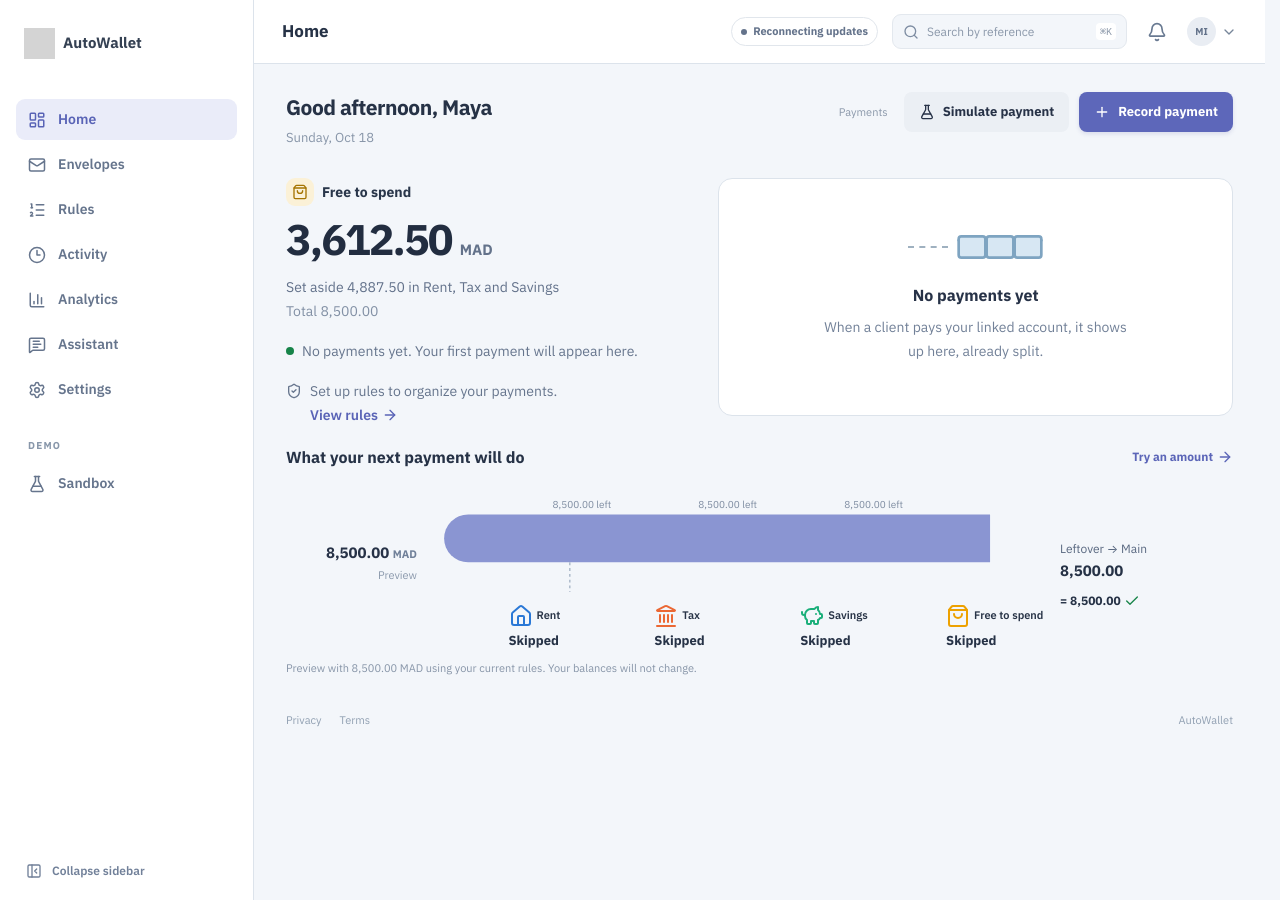
Scenario: DashboardPage › records a payment through the backend and refreshes the dashboard
The image size is (1280, 900).
Check: the heading "No payments yet" is shown, box 913,283 -> 1039,307
Click the button "Record payment" at (1156,112), box 1079,92 -> 1233,132
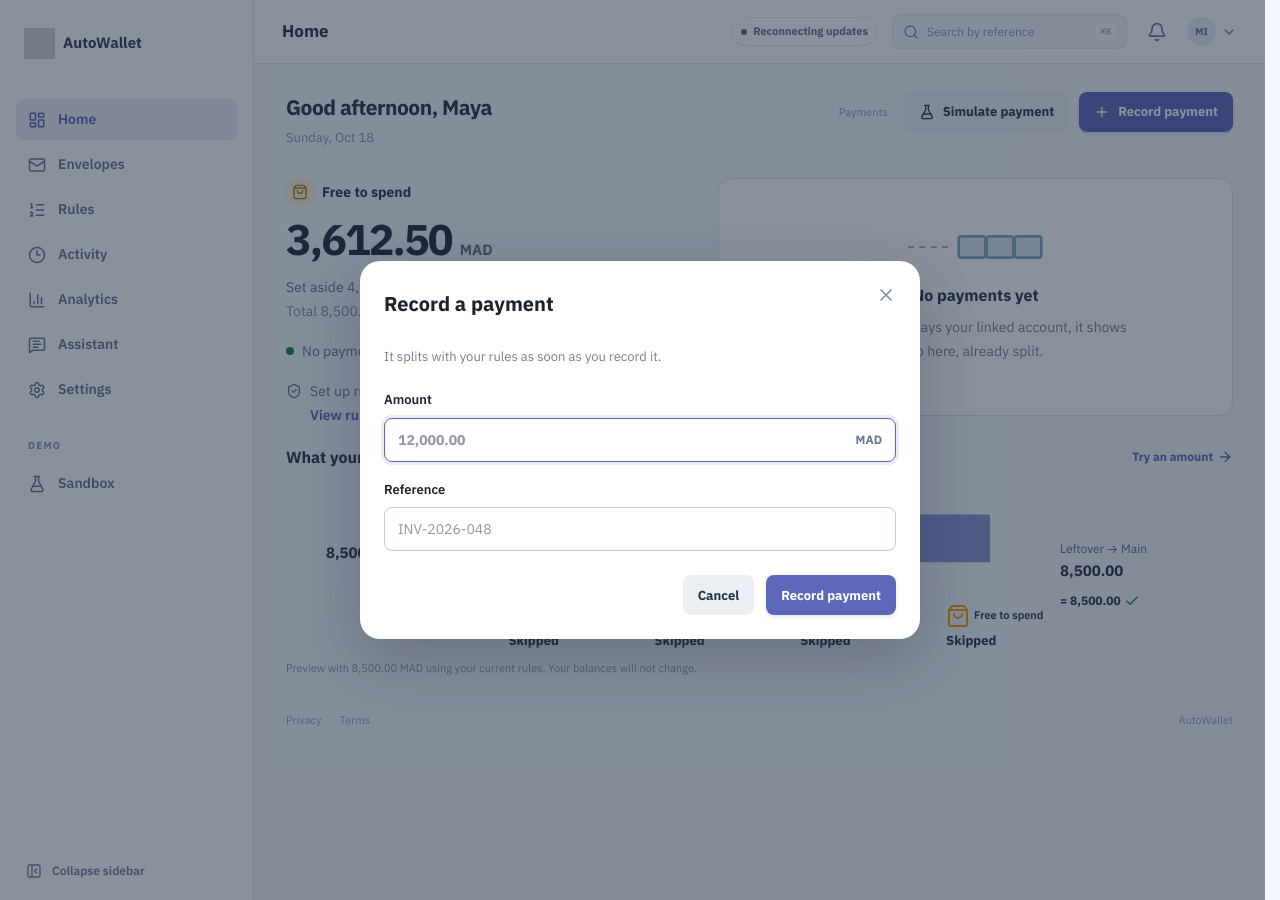
Type "INV-NEW" into the field labelled "Reference" at (640,529), box 384,507 -> 896,551
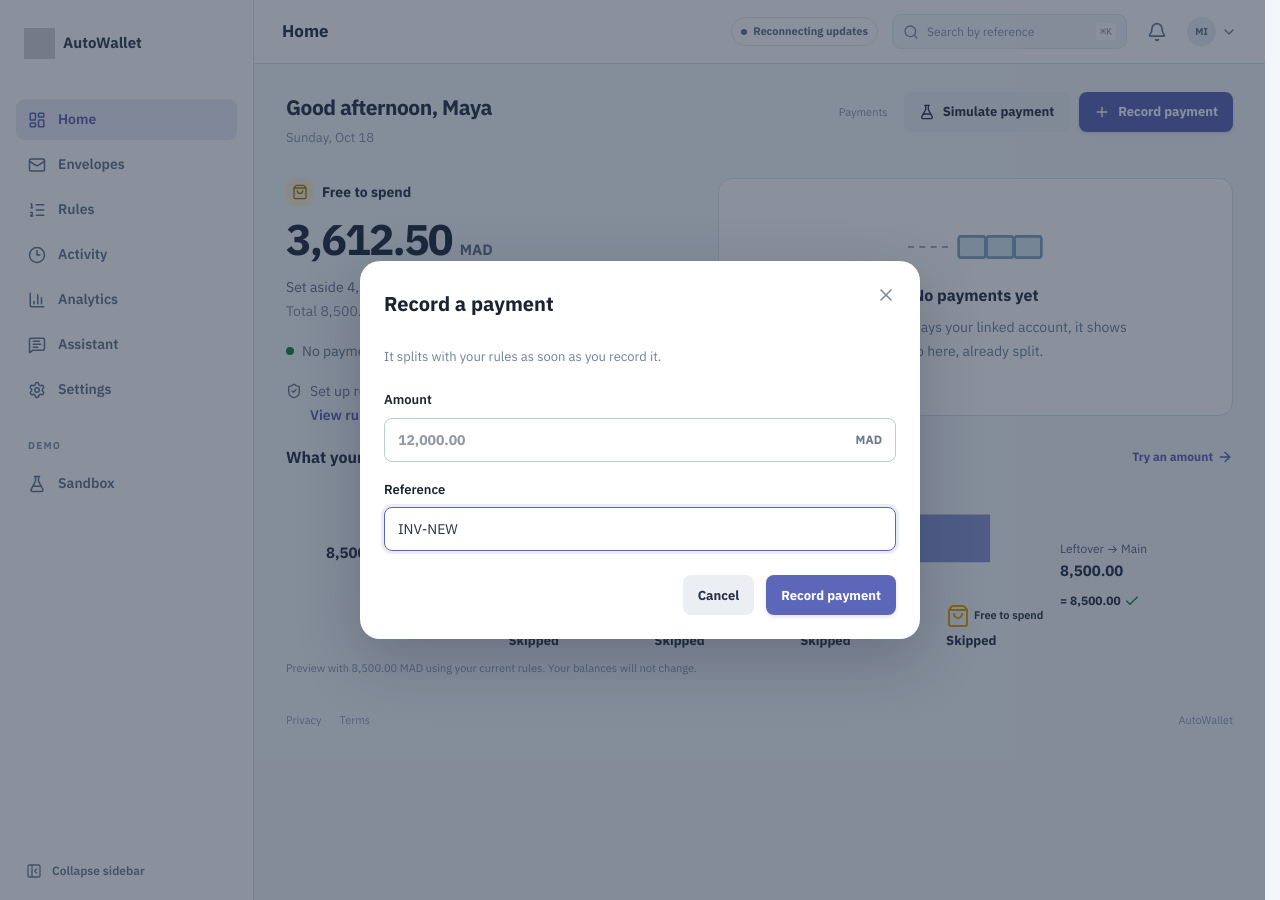
Type "2400" into the field named "Amount (MAD)" at (640,440), box 384,418 -> 896,462
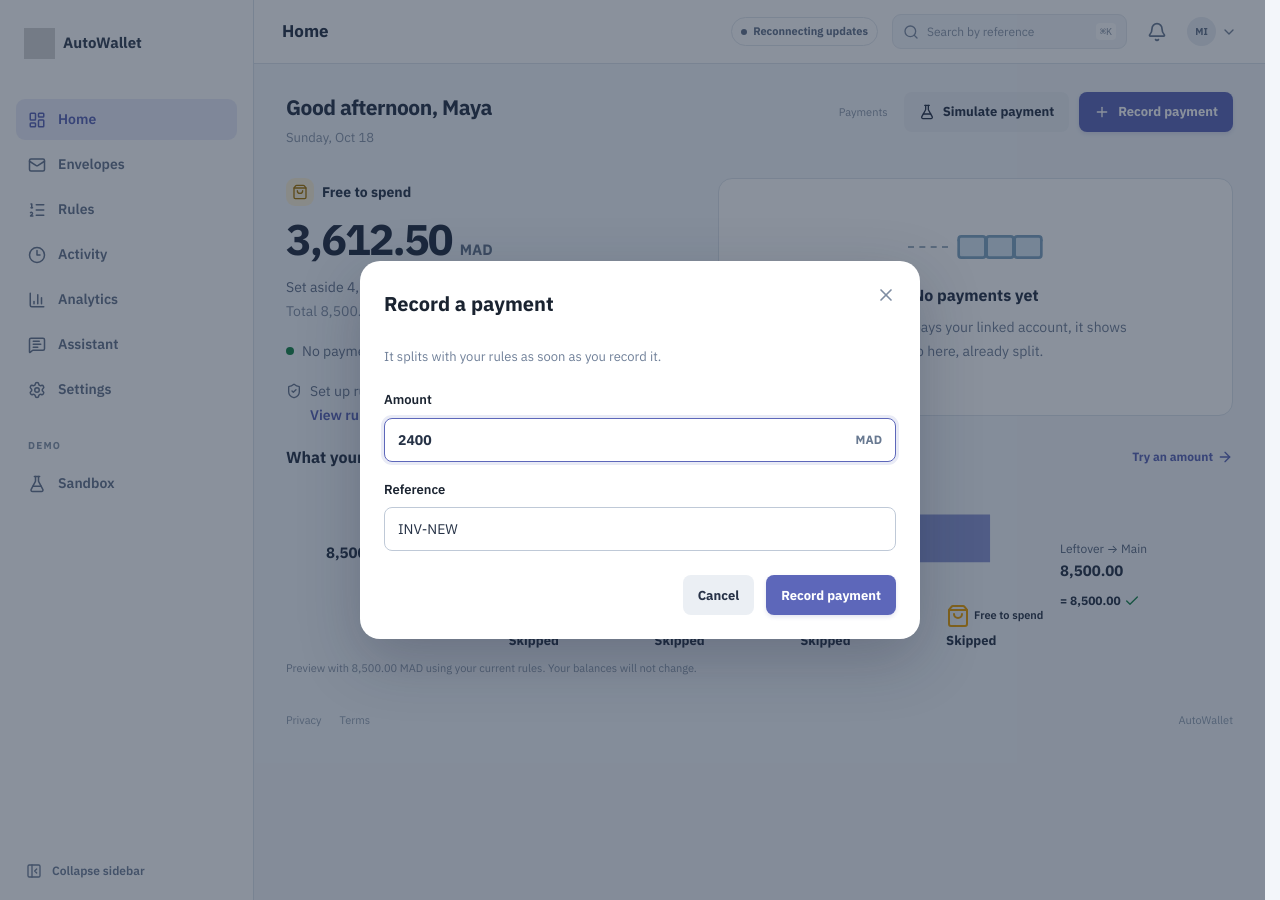
Click the button "Record payment" at (831,595), box 766,575 -> 896,615
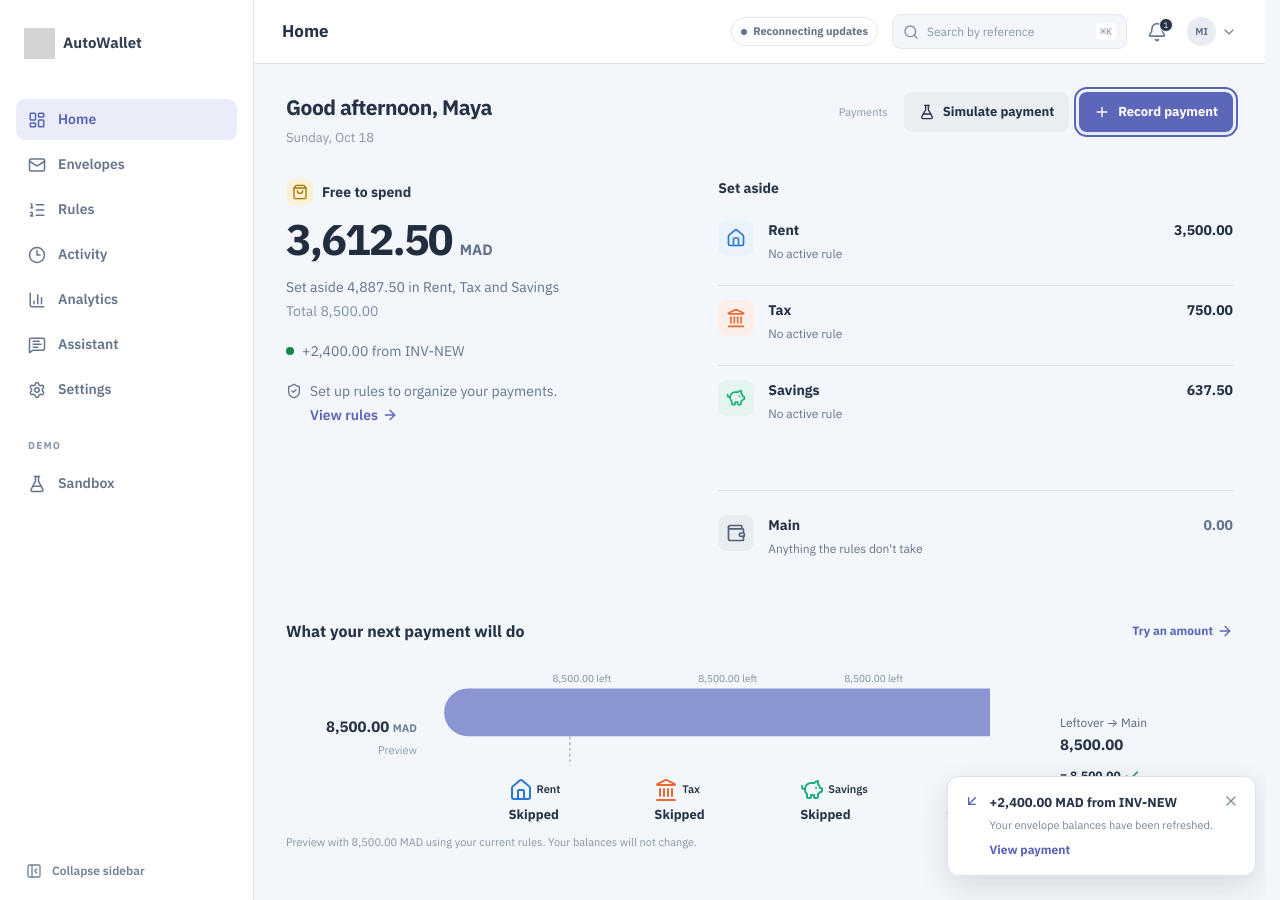
Check: the text "Your envelope balances have been refreshed." is shown, box 990,817 -> 1213,834
